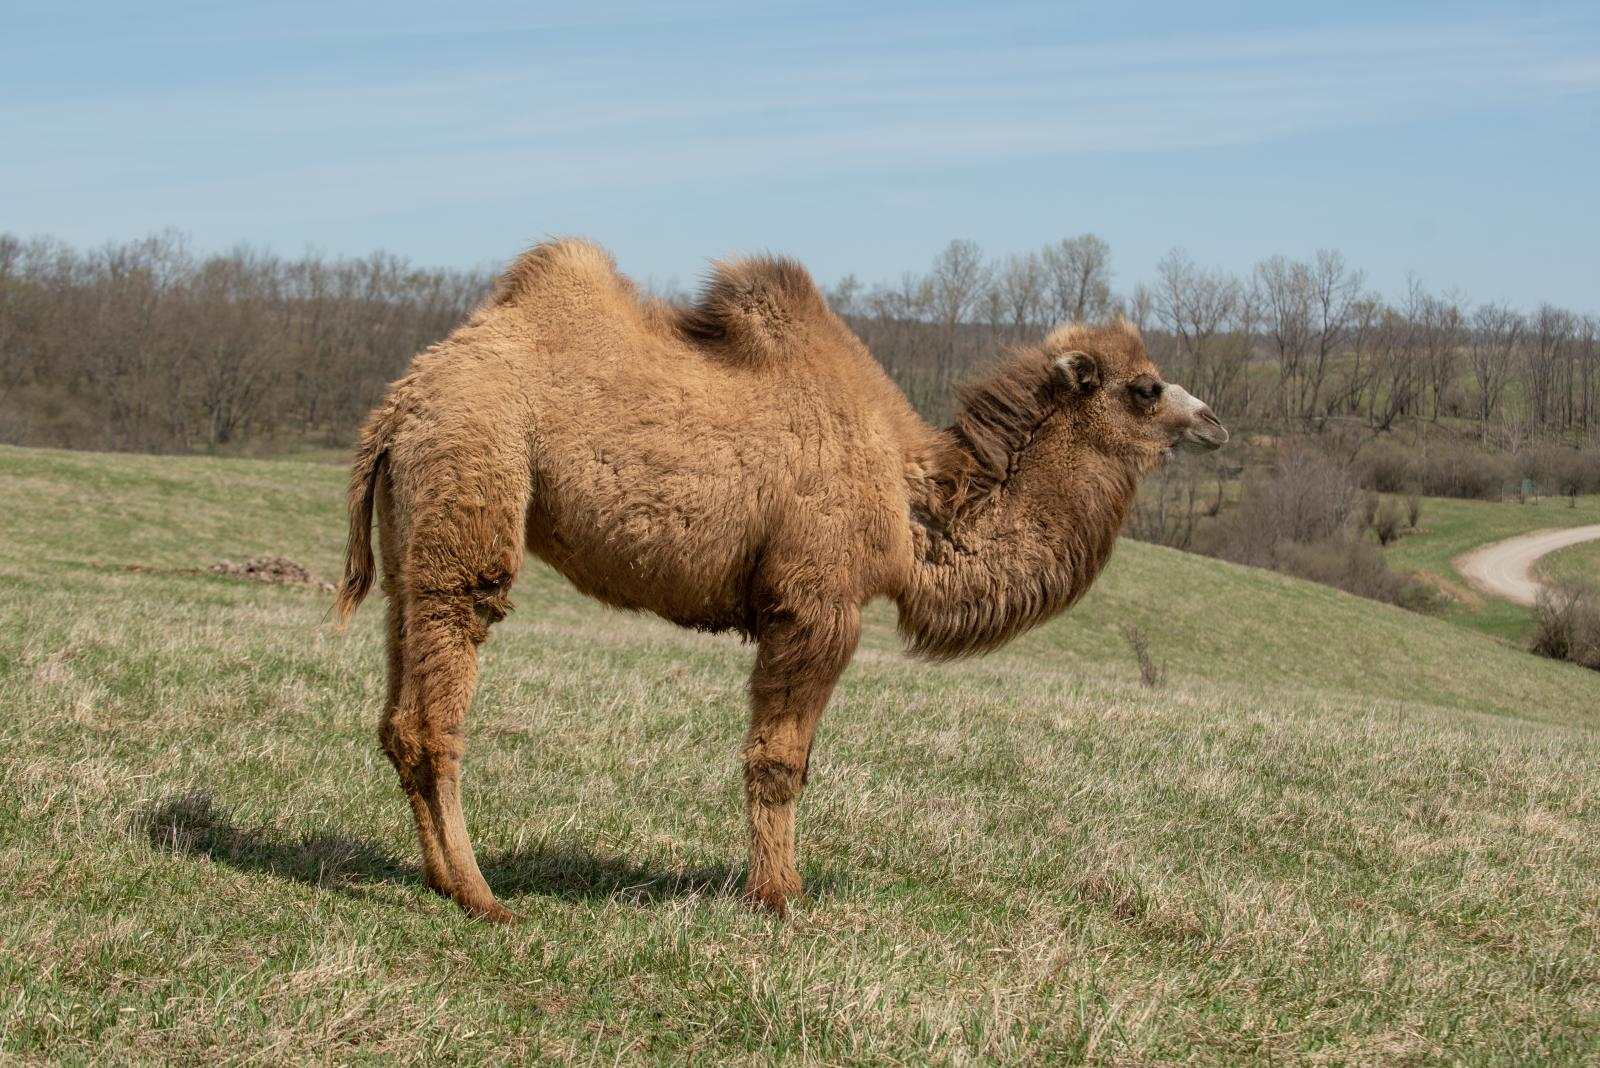camel: (325, 232, 1244, 921)
